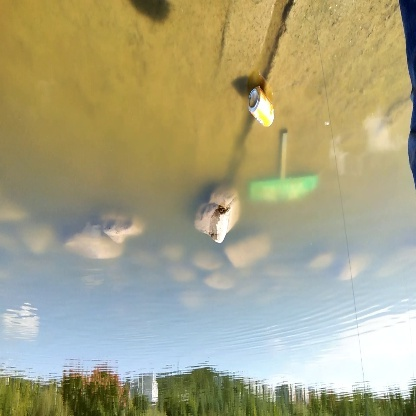plastic-garbage: (245, 171, 324, 213)
